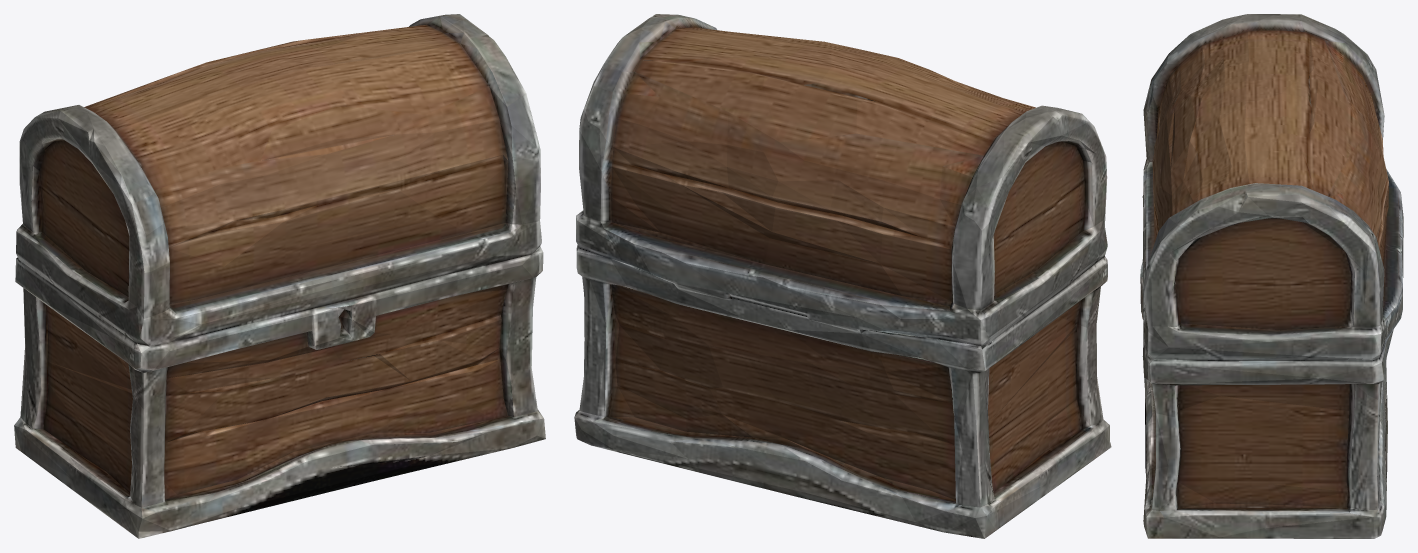
Rendered from chest_metal_wood_lod0.glb.
3 renders of one model, left to right at view 1: azimuth 30°, elevation 25°; view 2: azimuth 150°, elevation 25°; view 3: azimuth 270°, elevation 25°, orthographic. The views are drawn at different scales.
Visible parts, largest first — view 1: chest_metal_wood_lod0; view 2: chest_metal_wood_lod0; view 3: chest_metal_wood_lod0.
Boxes of the visible parts, left/top/right/bottom form: chest_metal_wood_lod0: left=14, top=14, right=545, bottom=538; chest_metal_wood_lod0: left=574, top=14, right=1111, bottom=538; chest_metal_wood_lod0: left=1140, top=14, right=1403, bottom=538.
Size of the model in its own units: 0.9 by 0.7954 by 0.5367.
1 material, 1 textured.
